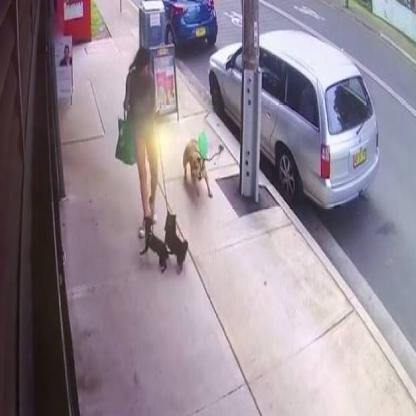dog: (179, 137, 215, 201), (138, 215, 170, 277), (162, 210, 189, 275)
